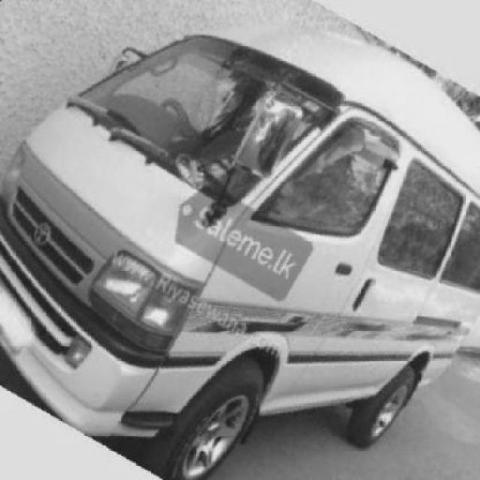van: (1, 26, 479, 480)
